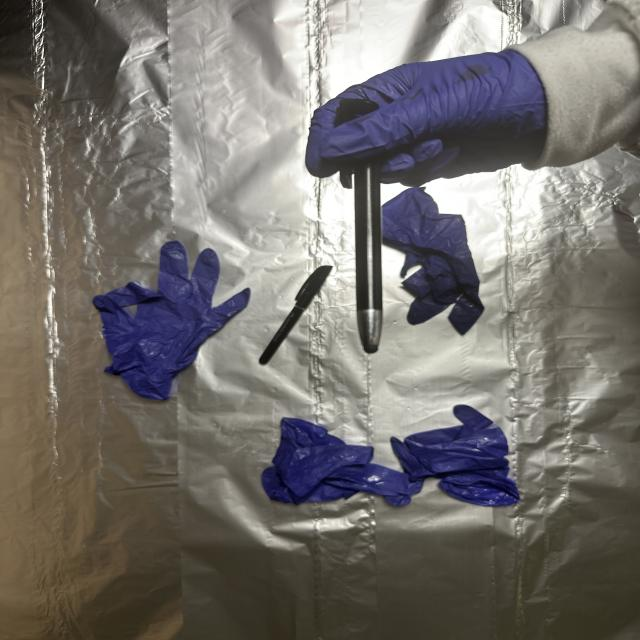gloves_contaminated: (306, 51, 546, 186)
